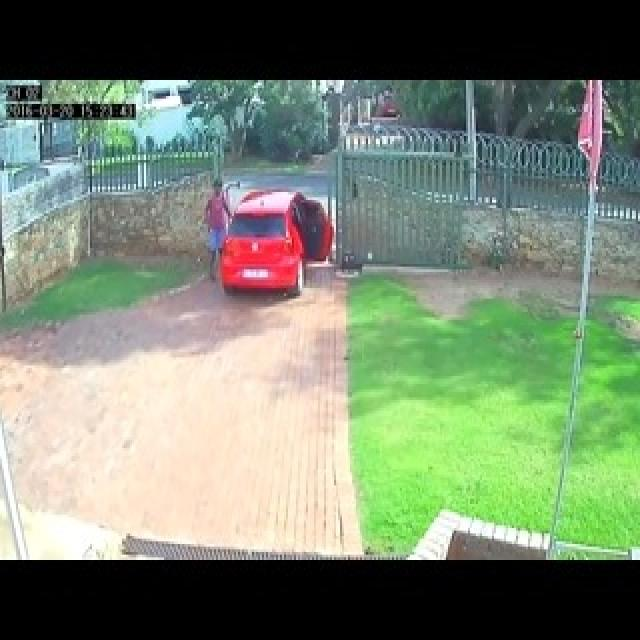thief: (198, 177, 250, 258)
